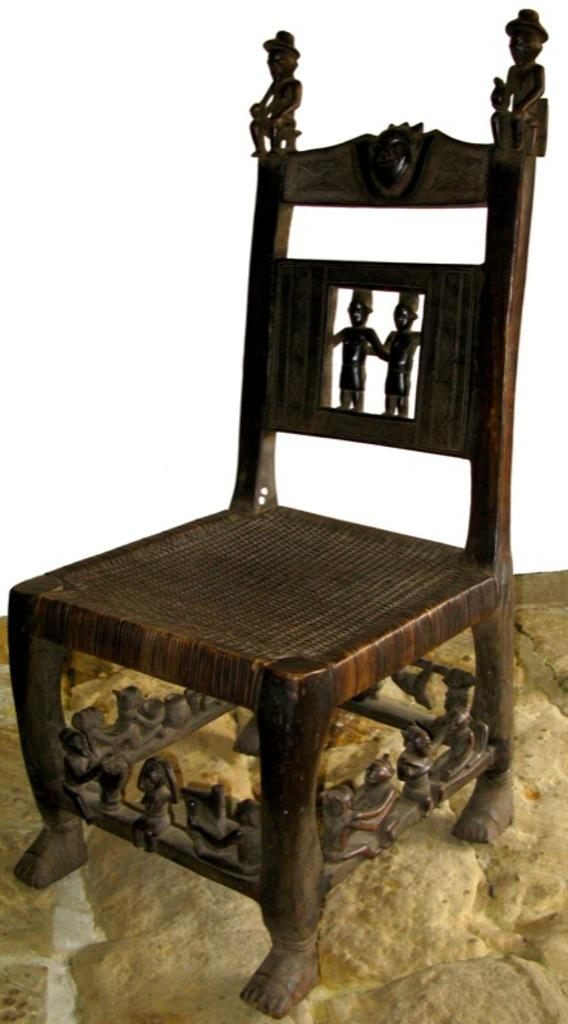Chair: (9, 0, 556, 997)
